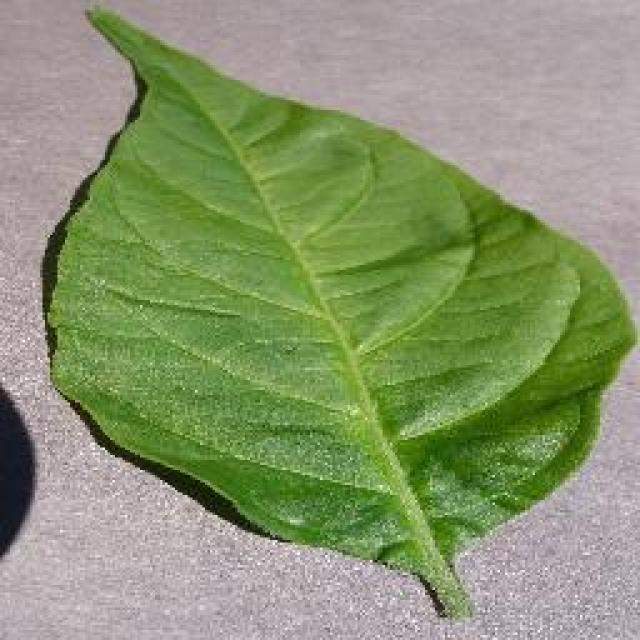Chilli_Healthy: (38, 0, 638, 620)
